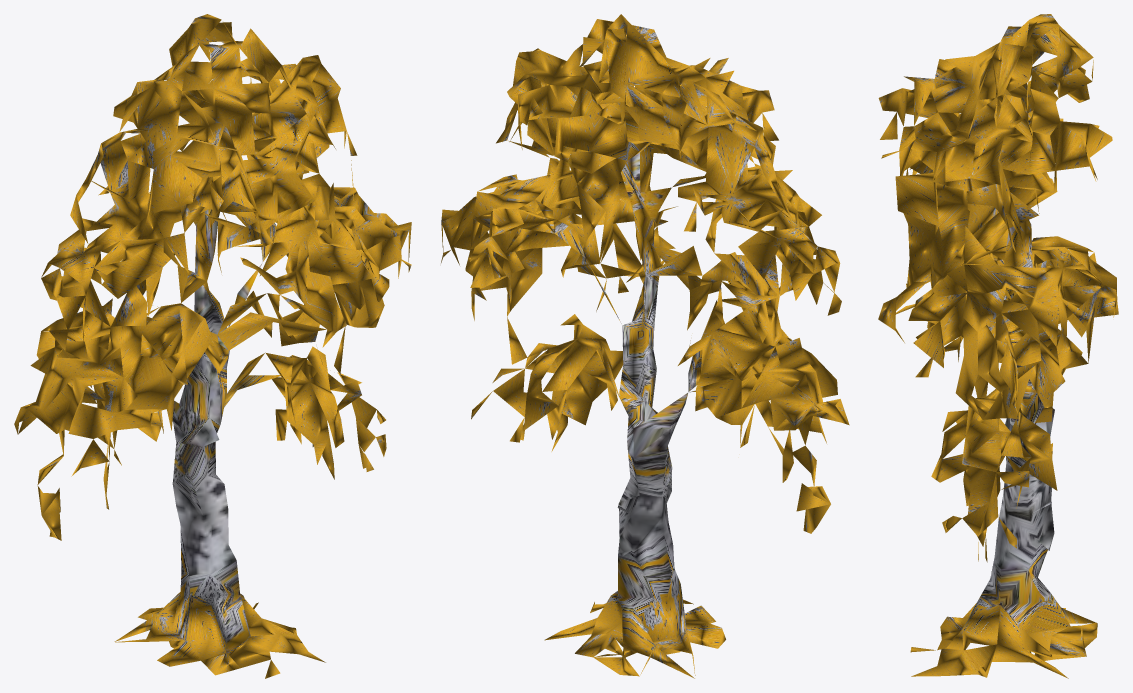
File: birch.glb
3 views of the same model, side by side, from view 1: azimuth 30°, elevation 25°; view 2: azimuth 150°, elevation 25°; view 3: azimuth 270°, elevation 25° (orthographic). The views are drawn at different scales.
Bounding box in the file's own units: 1.26 × 1.87 × 0.6439.
1 material, 1 textured.
